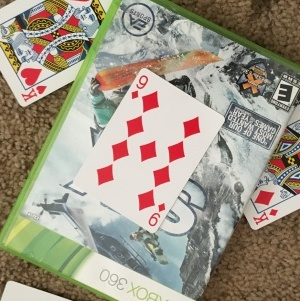card: (74, 67, 225, 234)
